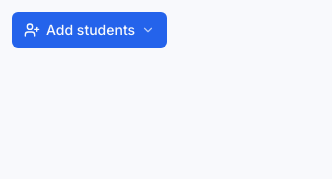
Test: AddStudentsMenu › offers import into this batch and sharing the link
This screenshot has width=332, height=179.
Click the button "Add students": (90, 30) [12,12,167,48]
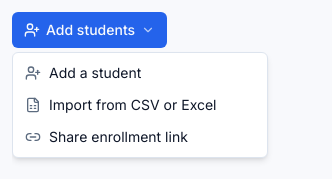
Expected: the menu item "Add a student" is shown, [25,64,141,81]
Expected: the menu item "Share enrollment link" is shown, [25,128,188,145]
